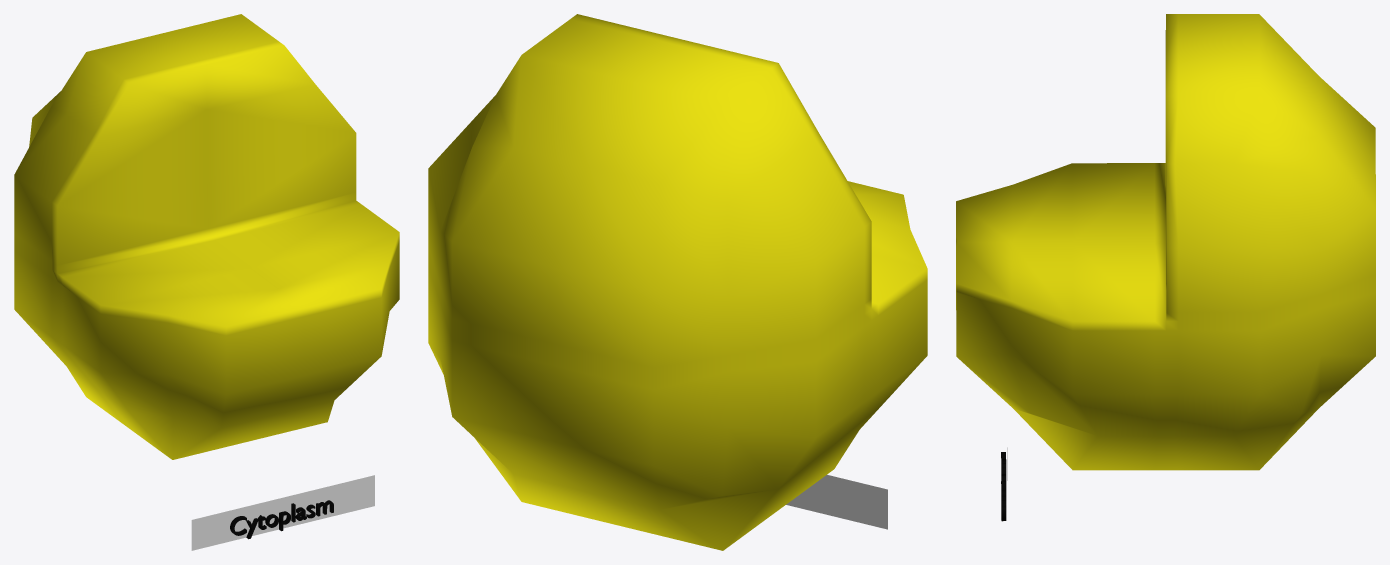
Rendered from cytoplasm1.gltf.
3 views of the same model, side by side, from view 1: azimuth 30°, elevation 25°; view 2: azimuth 150°, elevation 25°; view 3: azimuth 270°, elevation 25° (orthographic). The views are drawn at different scales.
Parts seen in each view (by area): view 1: main.001, Plane.037, Text.022; view 2: main.001, Plane.037; view 3: main.001.
Boxes of the visible parts, box(x1,y1,x2,y2) form: main.001: box(14, 14, 399, 459); Plane.037: box(191, 475, 374, 550); Text.022: box(230, 500, 333, 539); main.001: box(428, 14, 927, 550); Plane.037: box(786, 475, 887, 529); main.001: box(956, 14, 1375, 470).
Bounding box in the file's own units: 2.46 × 3.23 × 2.76.
